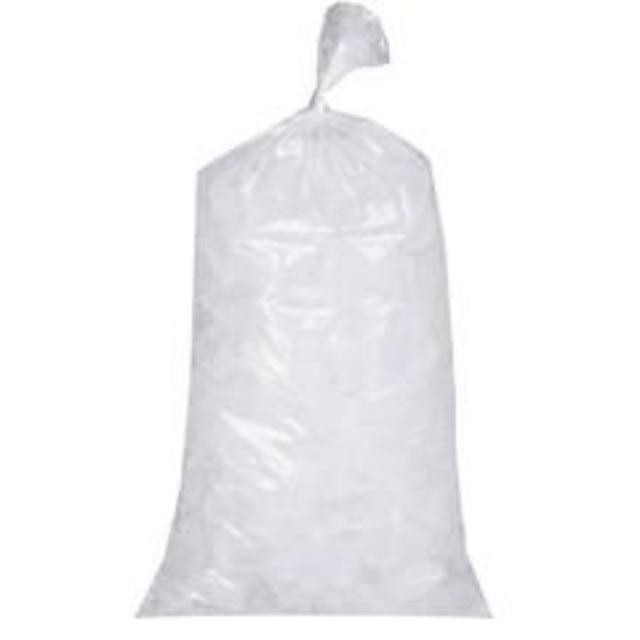Bolsa-de-plastico: (132, 4, 495, 618)
